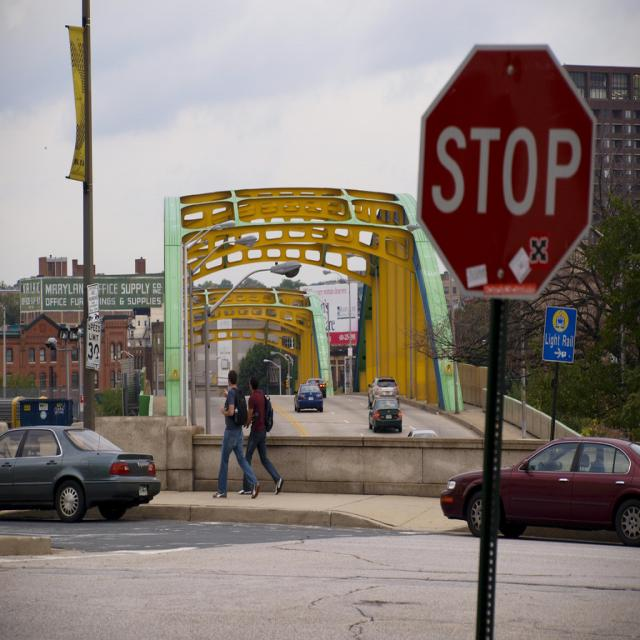other: (440, 436, 640, 547), (0, 404, 161, 524), (367, 398, 402, 434), (294, 380, 323, 411), (368, 376, 399, 404), (407, 424, 439, 439), (303, 378, 326, 398)
